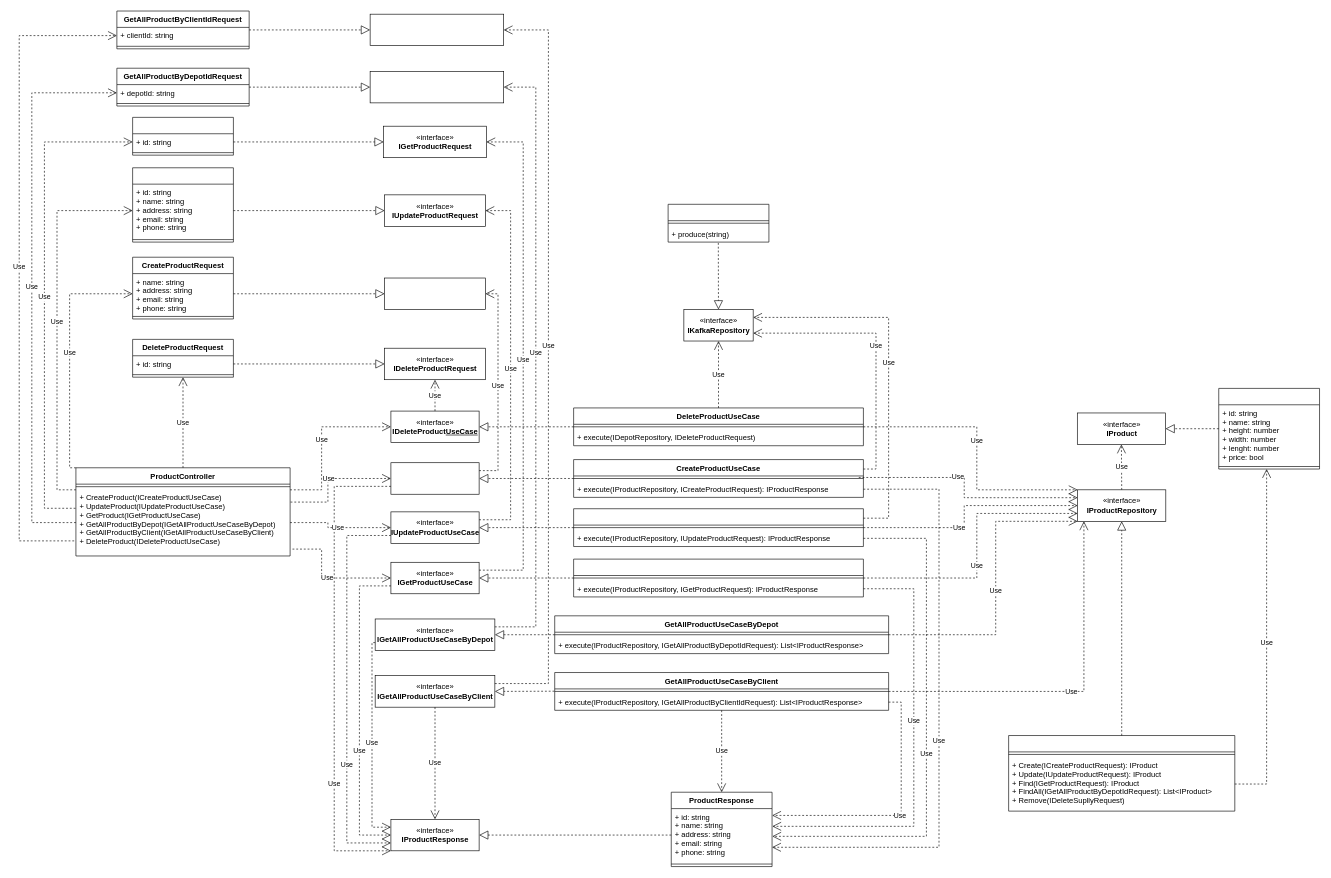
Image size: 1331x878. Some labels were removed from this diagram. The box of each missing label's shape, as (x1, y1, x2, y2) in pixels:
GetProductRequest: (132, 117, 233, 155)
GetProductUseCase: (573, 558, 863, 597)
KafkaRepository: (667, 204, 769, 242)
Product: (1218, 388, 1320, 469)
ProductRepository: (1008, 735, 1235, 811)
UpdateProductRequest: (132, 167, 233, 242)
UpdateProductUseCase: (573, 508, 863, 547)
«interface» ICreateProductRequest: (384, 277, 485, 310)
«interface» ICreateProductUseCase: (390, 462, 479, 494)
«interface» IGetAllProductByClientIdRequest: (369, 14, 504, 46)
«interface» IGetAllProductByDepotIdRequest: (369, 71, 504, 103)
